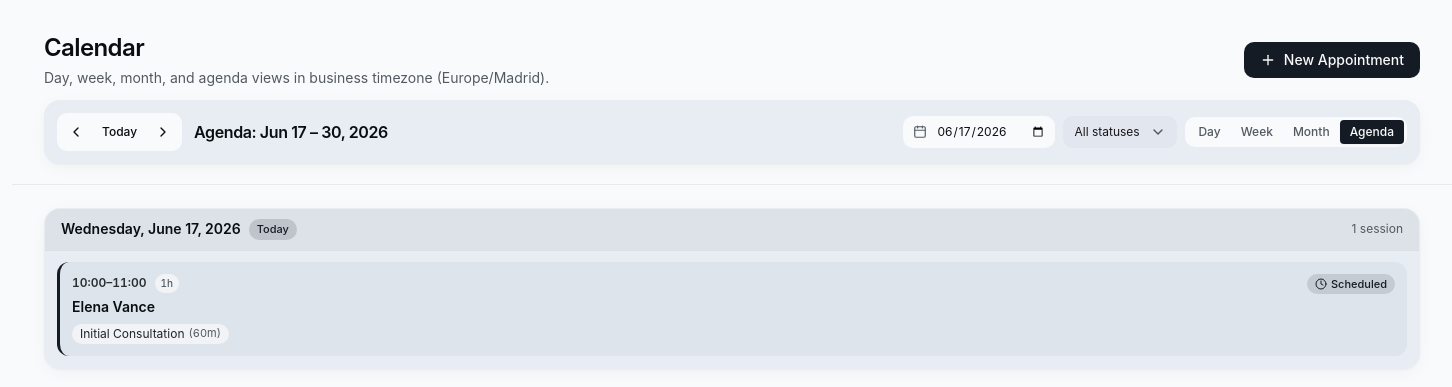
CalendarPage › opens appointment detail workflow when clicking an appointment
Click the link named "10:00–11:00, Elena Vance, Initial Consultation, status Scheduled": (109,282) [57,262,1407,356]
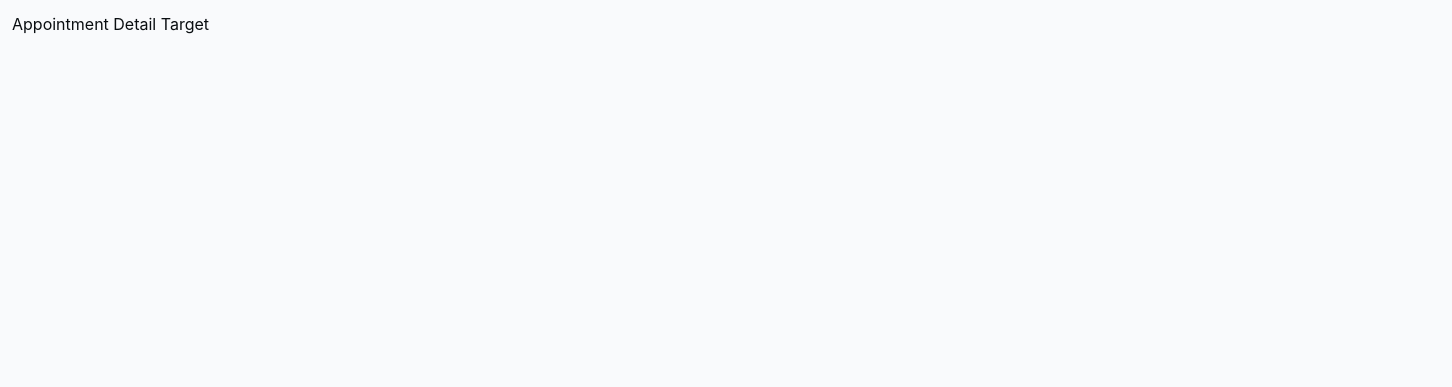
expect the text "Appointment Detail Target" is shown: met, box [12,14,209,34]
